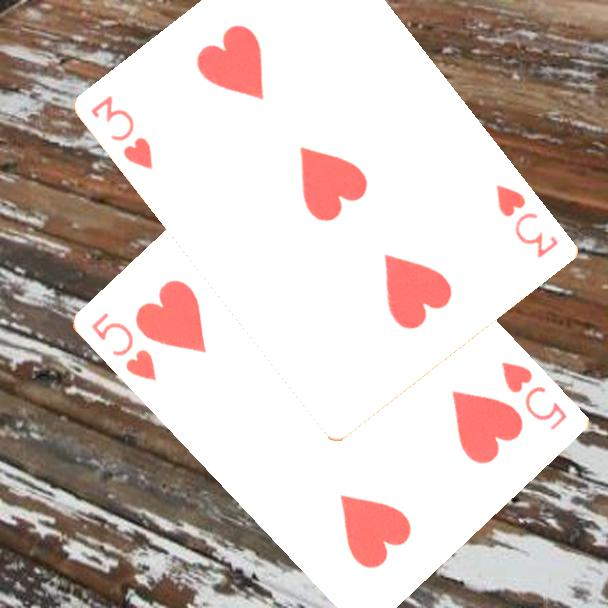h03: (87, 91, 157, 173), (493, 181, 562, 262)
h05: (498, 358, 571, 434), (88, 309, 160, 385)
